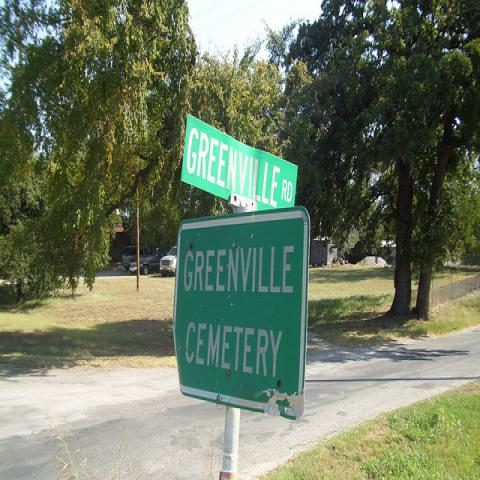car: (122, 242, 157, 274), (160, 246, 177, 278)
